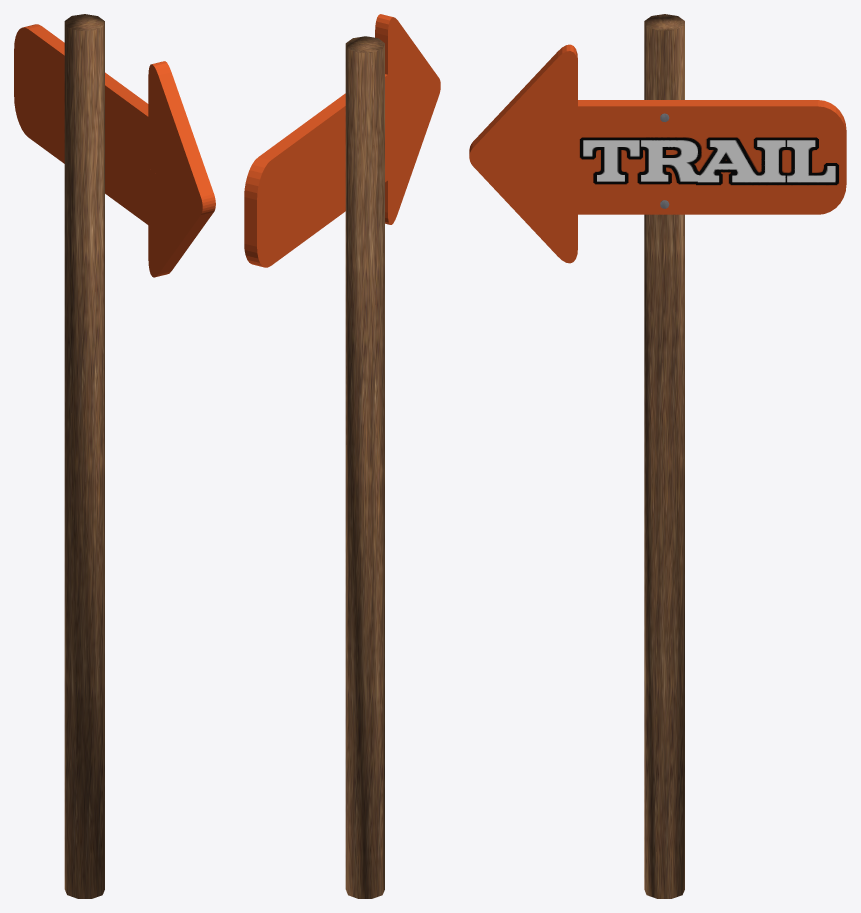
The model's file is signLeft.fbx.
3 views of the same model, side by side, from view 1: azimuth 30°, elevation 25°; view 2: azimuth 150°, elevation 25°; view 3: azimuth 270°, elevation 25° (orthographic). The views are drawn at different scales.
Parts seen in each view (by area): view 1: signLeft; view 2: signLeft; view 3: signLeft.
Part boxes in pixels (x1,y1,x2,y2): signLeft: (14, 14, 215, 898); signLeft: (244, 14, 440, 898); signLeft: (469, 14, 846, 898).
Bounding box in the file's own units: 30.03 × 476 × 187.
